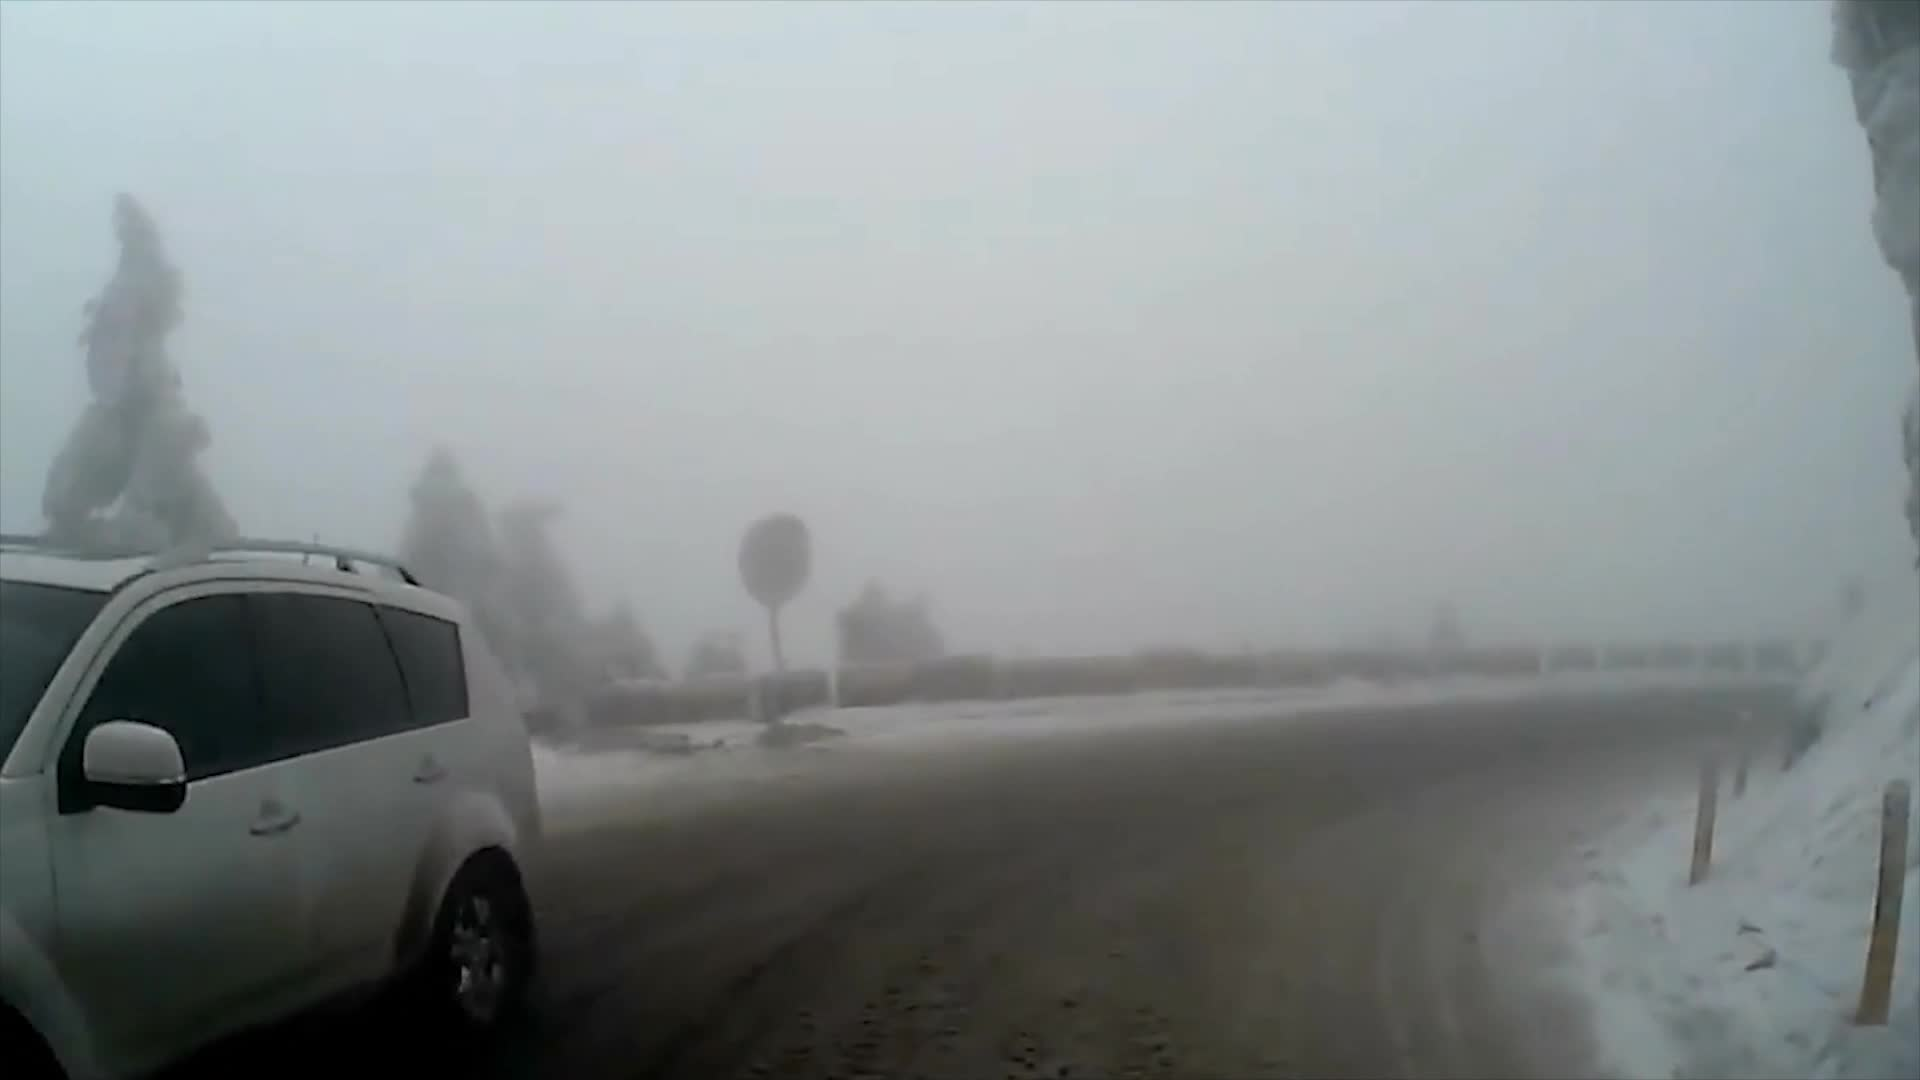vehicle: (0, 533, 543, 1080)
